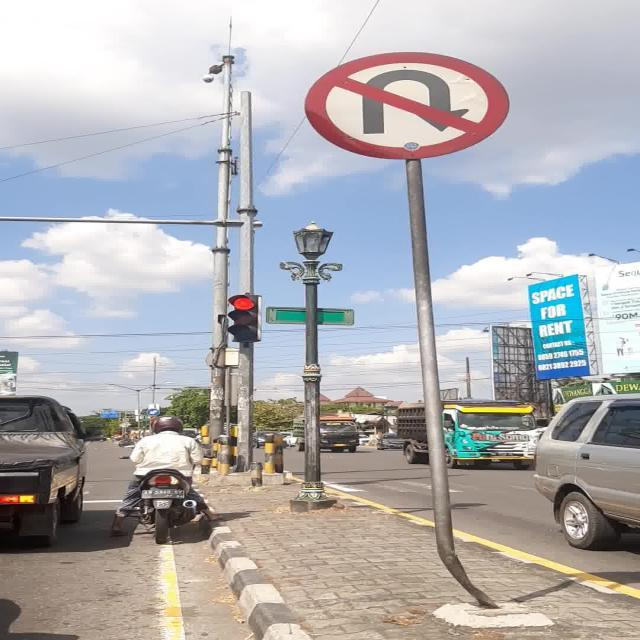Dilarang Putar Balik: (304, 52, 510, 160)
